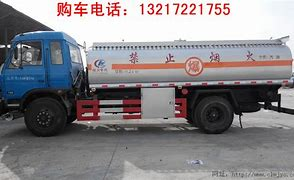oil truck: (2, 17, 293, 143)
